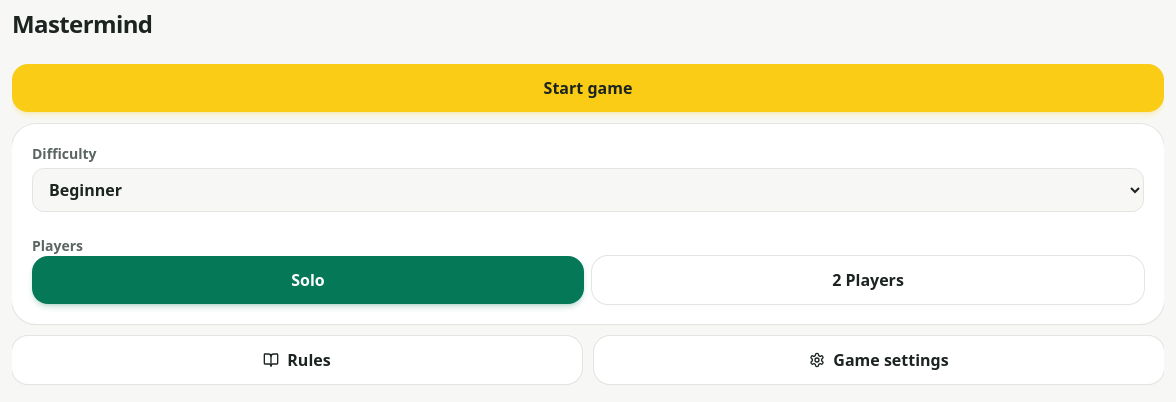
Test: shared game pre-start layout › starts the puzzle with the chosen mode and difficulty
Select "Expert" in the dropdown labelled "Difficulty" at x=588, y=190, box [32,168,1144,212]
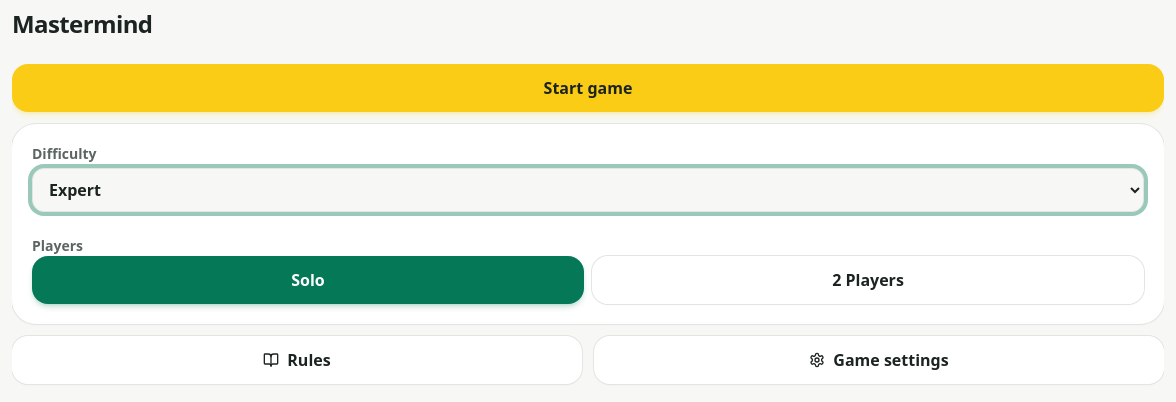
Click the button "2 Players" at x=868, y=280, box [592,256,1144,304]
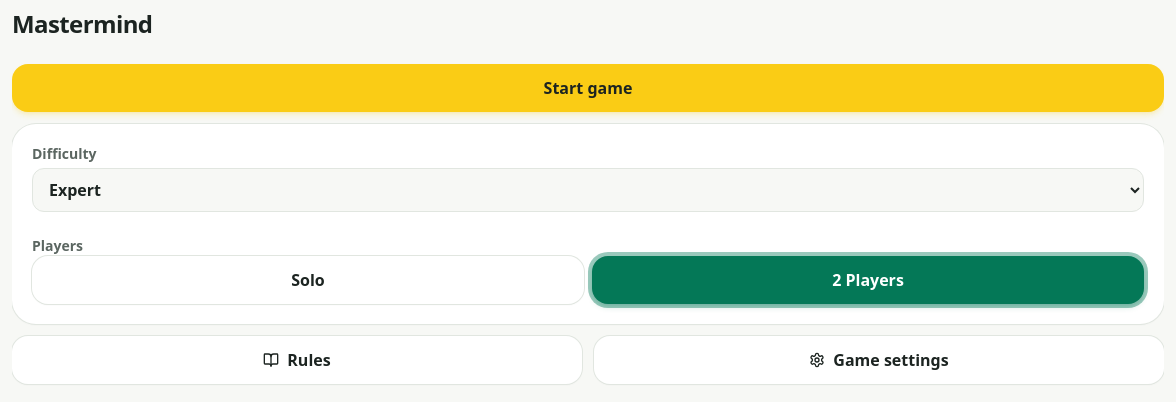
Click the button "Start game" at x=588, y=88, box [12,64,1164,112]
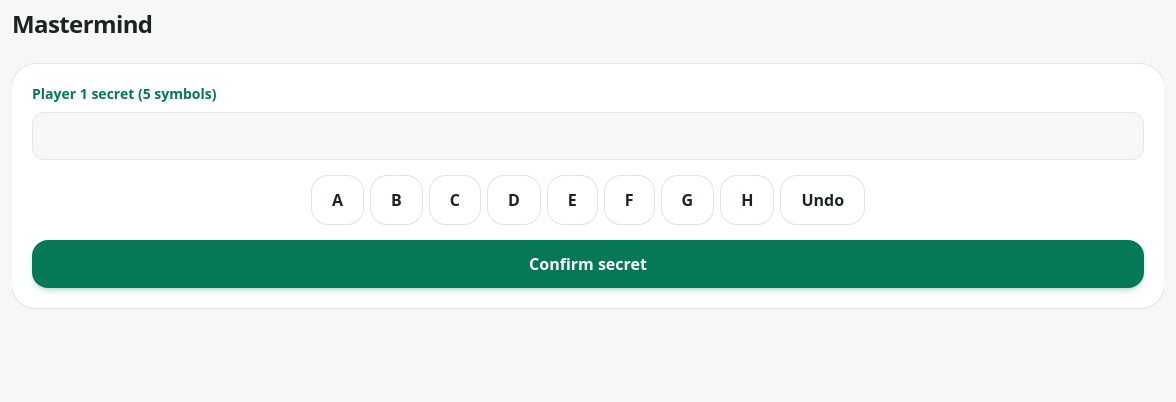
Expected: the password field labelled "Player 1 secret (5 symbols)" is shown, [32,112,1144,160]
Expected: the button "Start game" is gone
